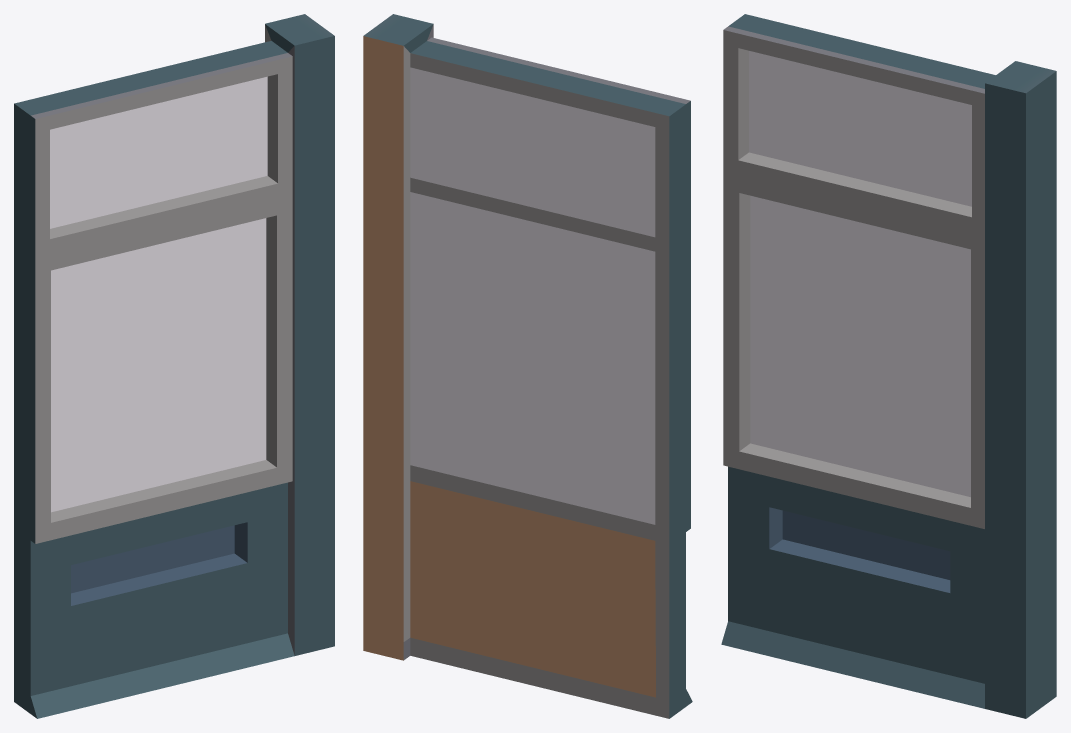
File: KA_mur_droite_devanture.fbx
The picture shows the model from 3 angles, left to right: view 1: azimuth 30°, elevation 25°; view 2: azimuth 150°, elevation 25°; view 3: azimuth 330°, elevation 25°; orthographic projection. The views are drawn at different scales.
Visible parts, largest first — view 1: Object001; view 2: Object001; view 3: Object001.
Boxes of the visible parts, left/top/right/bottom form: Object001: left=14, top=14, right=334, bottom=718; Object001: left=363, top=14, right=692, bottom=718; Object001: left=721, top=14, right=1056, bottom=718.
Size of the model in its own units: 81.92 by 161 by 14.24.
